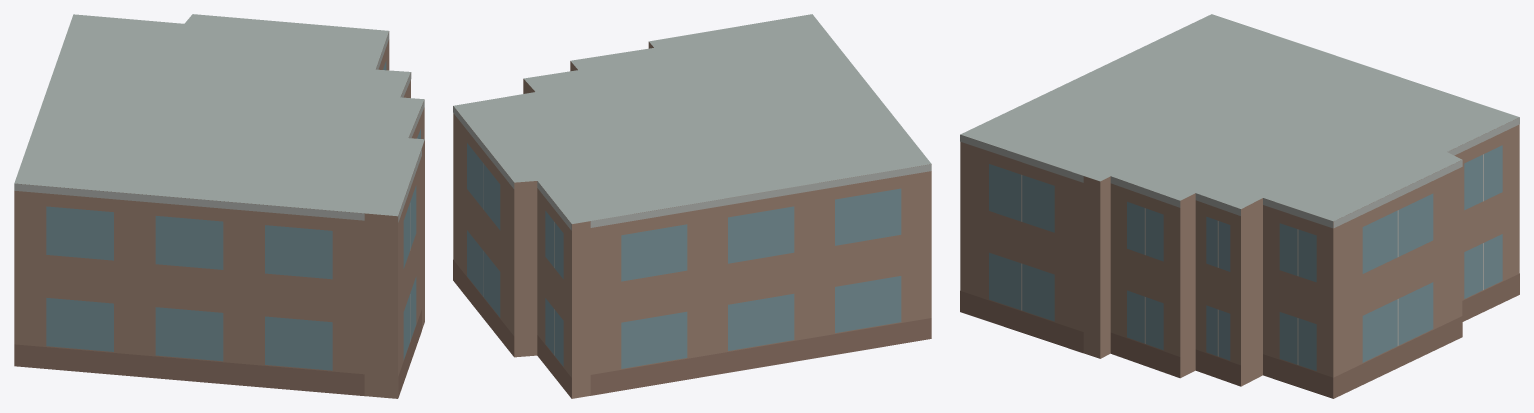
Rendered from survey-upis-32775923.glb.
3 renders of one model, left to right at view 1: azimuth 30°, elevation 25°; view 2: azimuth 150°, elevation 25°; view 3: azimuth 270°, elevation 25°, orthographic. The views are drawn at different scales.
Visible parts, largest first — view 1: survey-upis-32775923.tmp; view 2: survey-upis-32775923.tmp; view 3: survey-upis-32775923.tmp.
Boxes of the visible parts, x1=… form: survey-upis-32775923.tmp: x1=14, y1=14, x2=424, y2=398; survey-upis-32775923.tmp: x1=453, y1=14, x2=931, y2=398; survey-upis-32775923.tmp: x1=960, y1=14, x2=1519, y2=398.
Size of the model in its own units: 15.3 by 6.1 by 17.44.
